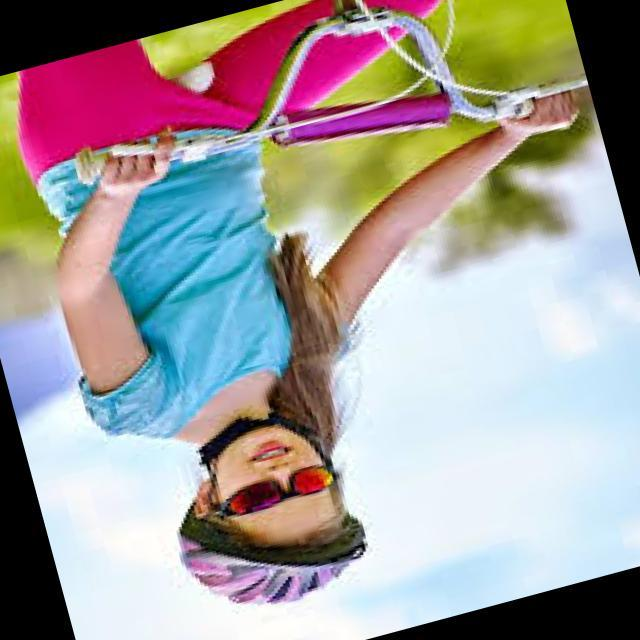WITH_HELMET: (174, 506, 396, 624)
